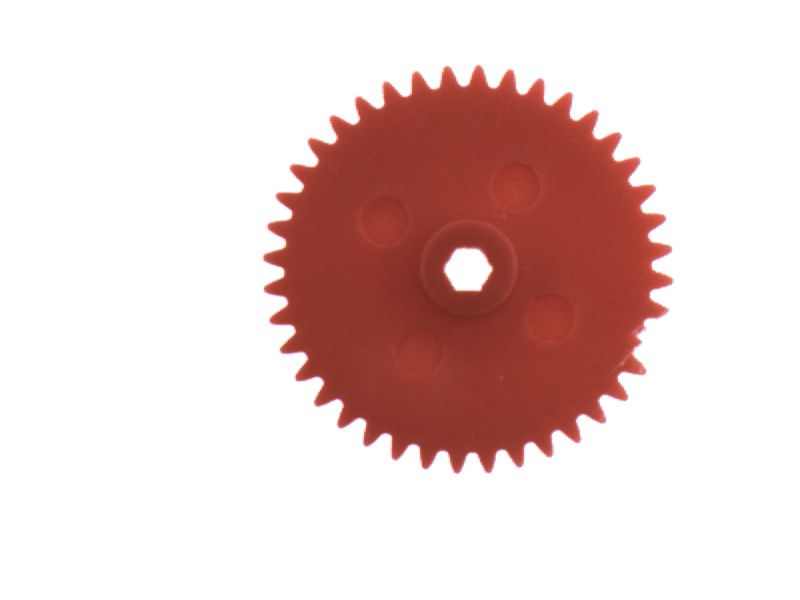defect_lack: (619, 309, 676, 371)
